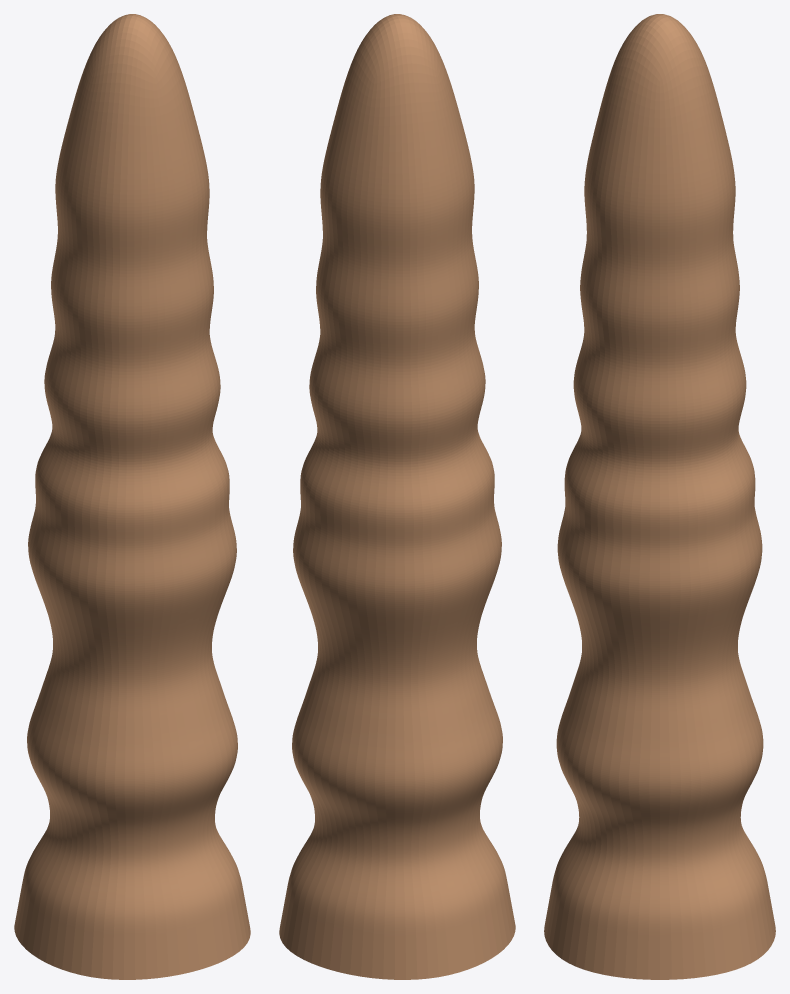
3 views of the same model, side by side, from view 1: azimuth 30°, elevation 25°; view 2: azimuth 150°, elevation 25°; view 3: azimuth 270°, elevation 25° (orthographic).
Parts seen in each view (by area): view 1: Stalagmite1; view 2: Stalagmite1; view 3: Stalagmite1.
Boxes of the visible parts, x1,y1,x2,y2 form: Stalagmite1: (14, 14, 250, 979); Stalagmite1: (279, 14, 515, 979); Stalagmite1: (544, 14, 775, 979).
Size of the model in its own units: 38.74 by 169 by 38.74.
